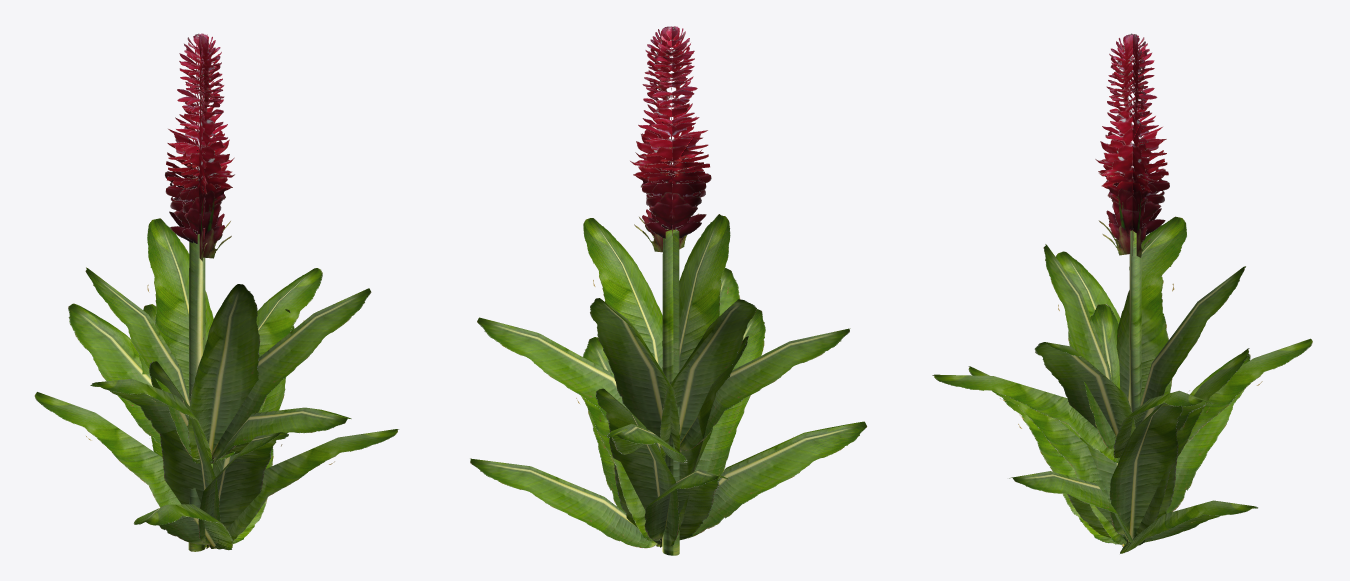
The model's file is plant e.dae.
The picture shows the model from 3 angles, left to right: view 1: azimuth 30°, elevation 25°; view 2: azimuth 150°, elevation 25°; view 3: azimuth 270°, elevation 25°; orthographic projection. The views are drawn at different scales.
Parts seen in each view (by area): view 1: plant_e_leaves, plant_e_flower, plant_e_Group2_Shape1; view 2: plant_e_leaves, plant_e_flower, plant_e_Group2_Shape1; view 3: plant_e_leaves, plant_e_flower, plant_e_Group2_Shape1.
Part boxes in pixels (box(x1,y1,x2,y2)): plant_e_leaves: box(34, 218, 399, 550); plant_e_flower: box(165, 33, 234, 261); plant_e_Group2_Shape1: box(188, 232, 205, 551); plant_e_leaves: box(470, 214, 867, 548); plant_e_flower: box(630, 26, 711, 252); plant_e_Group2_Shape1: box(662, 229, 679, 555); plant_e_leaves: box(932, 216, 1312, 553); plant_e_flower: box(1095, 33, 1169, 257); plant_e_Group2_Shape1: box(1129, 230, 1141, 412).
Size of the model in its own units: 55.83 by 79.98 by 60.1.
Materials: 1 (1 with a texture image).
